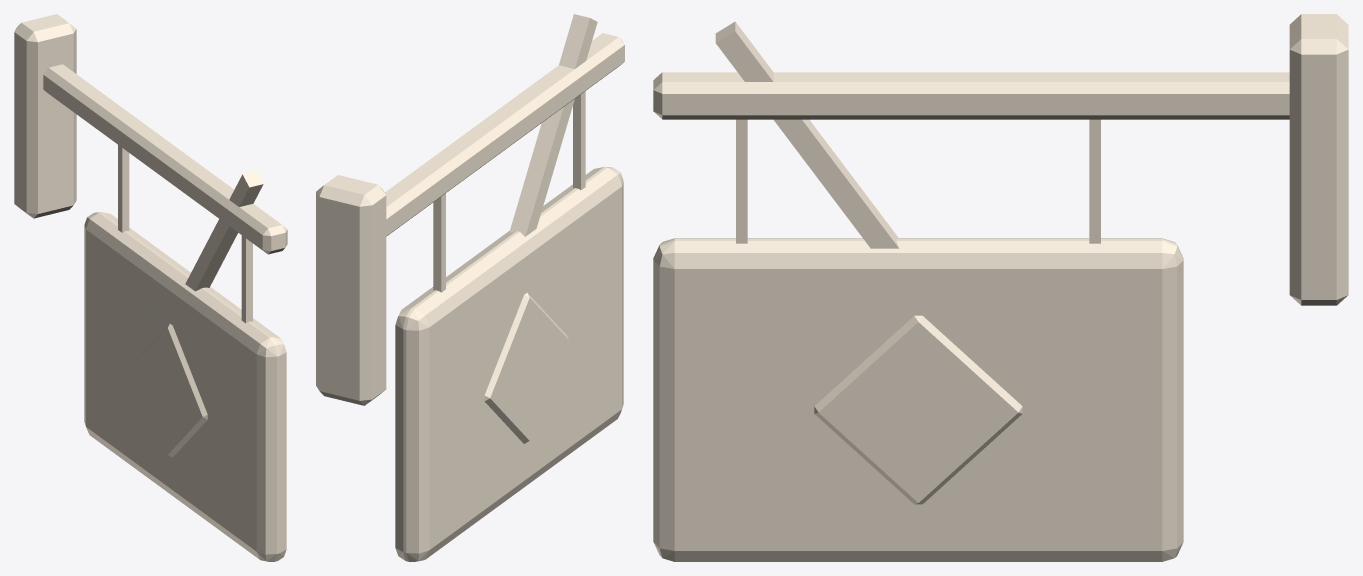
Rendered from SM_VK_Prop_Sign.fbx.
3 renders of one model, left to right at view 1: azimuth 30°, elevation 25°; view 2: azimuth 150°, elevation 25°; view 3: azimuth 270°, elevation 25°, orthographic. The views are drawn at different scales.
Visible parts, largest first — view 1: SM_VK_Prop_Sign.001; view 2: SM_VK_Prop_Sign.001; view 3: SM_VK_Prop_Sign.001.
Part boxes in pixels (x1,y1,x2,y2): SM_VK_Prop_Sign.001: [14, 14, 287, 561]; SM_VK_Prop_Sign.001: [316, 14, 624, 561]; SM_VK_Prop_Sign.001: [653, 14, 1348, 561].
Bounding box in the file's own units: 0.14 × 1 × 1.18.
